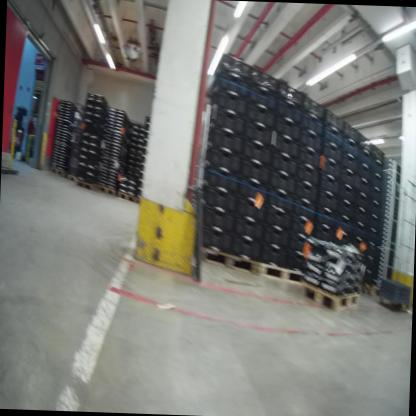pallet: (300, 278, 361, 312), (198, 247, 260, 277), (258, 264, 308, 286), (48, 162, 67, 180), (115, 188, 135, 204), (74, 178, 97, 191), (96, 183, 117, 197), (356, 283, 376, 295), (66, 171, 82, 183), (133, 198, 144, 205)
